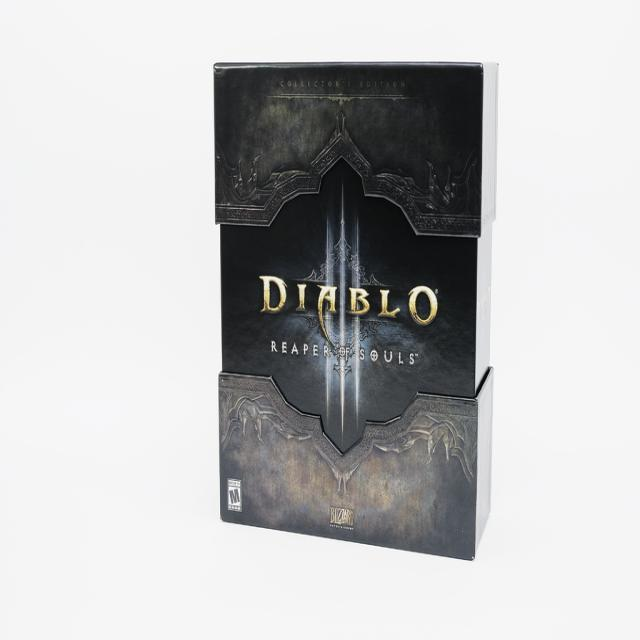book: (215, 42, 496, 561)
